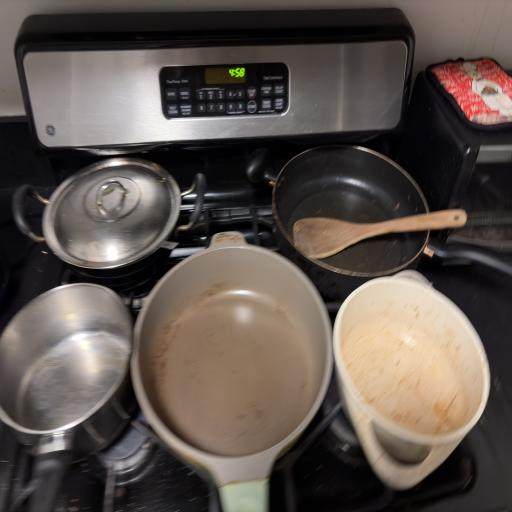Pan: (118, 227, 334, 512), (320, 268, 494, 475), (249, 138, 454, 292), (31, 128, 237, 264), (2, 275, 133, 460)
